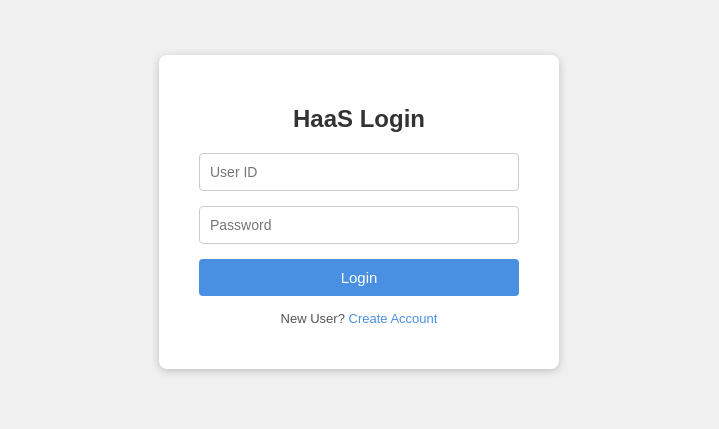
Test: E2E Integration Tests › supports login, protected routing, and logout
The width and height of the screenshot is (719, 429).
Type "bob" into the field with placeholder "User ID".
click(359, 172); type("bob")  # box [199, 153, 519, 191]
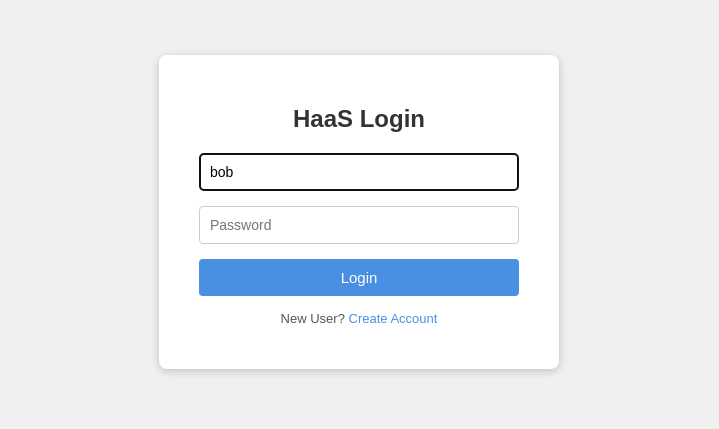
Type "pass123" into the password field with placeholder "Password".
click(359, 225); type("pass123")  # box [199, 206, 519, 244]
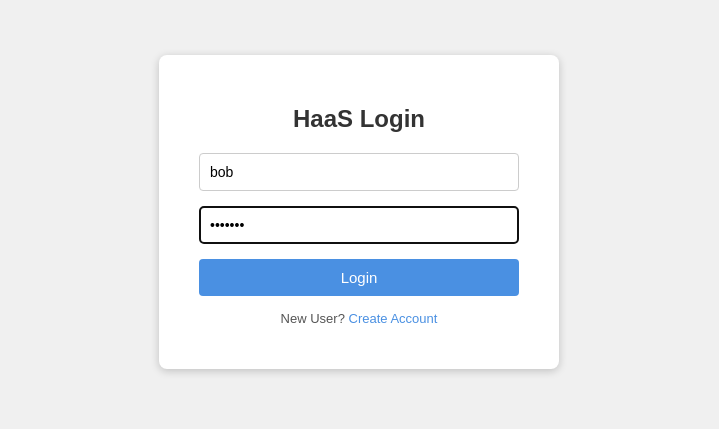
Click the button "Login".
click(359, 278)  # box [199, 259, 519, 296]
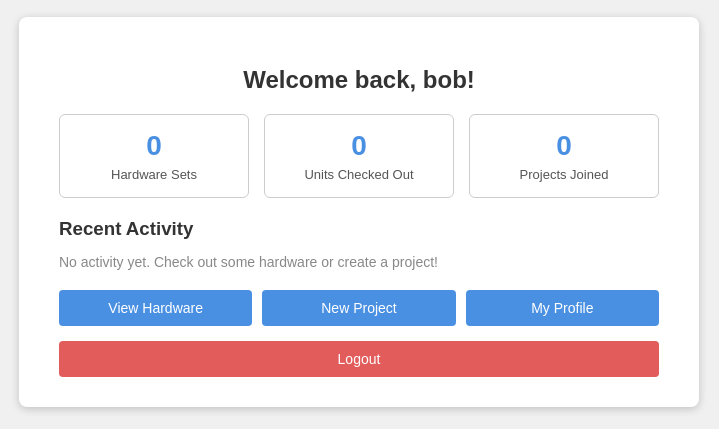
Expected: the heading "Welcome back, bob!" is shown, [243, 66, 475, 94]
Click the button "Logout".
click(359, 360)  # box [59, 342, 659, 378]
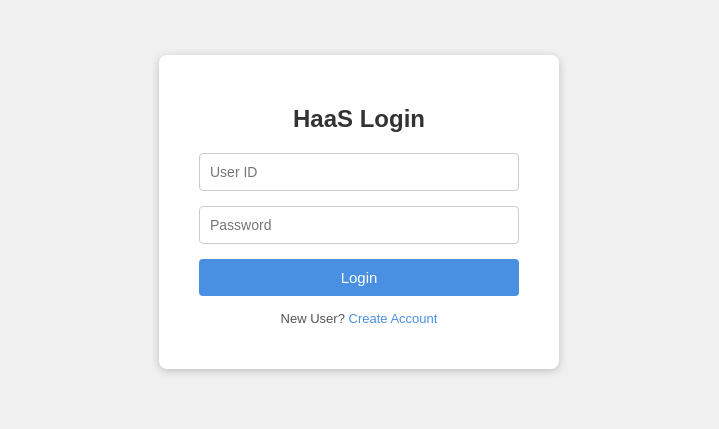
Expected: the heading "HaaS Login" is shown, [293, 105, 425, 132]
